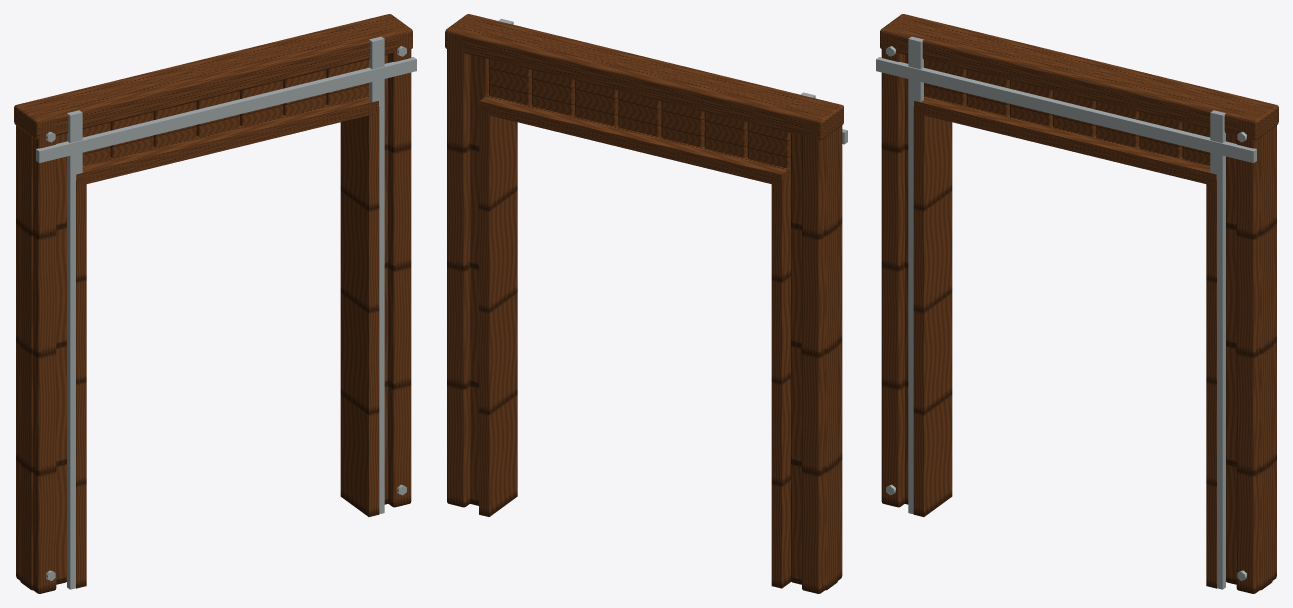
Rendered from modular-survival-base-builder-wall-wide-doorway-reinfo-309c23bb__24291.glb.
3 views of the same model, side by side, from view 1: azimuth 30°, elevation 25°; view 2: azimuth 150°, elevation 25°; view 3: azimuth 330°, elevation 25° (orthographic).
Visible parts, largest first — view 1: wall-wide-doorway-reinforced; view 2: wall-wide-doorway-reinforced; view 3: wall-wide-doorway-reinforced.
Boxes of the visible parts, x1=… form: wall-wide-doorway-reinforced: x1=14, y1=14, x2=416, y2=593; wall-wide-doorway-reinforced: x1=445, y1=14, x2=847, y2=593; wall-wide-doorway-reinforced: x1=876, y1=14, x2=1278, y2=593.
Size of the model in its own units: 2 by 2.4 by 0.262.
Materials: 2 (1 with a texture image).
